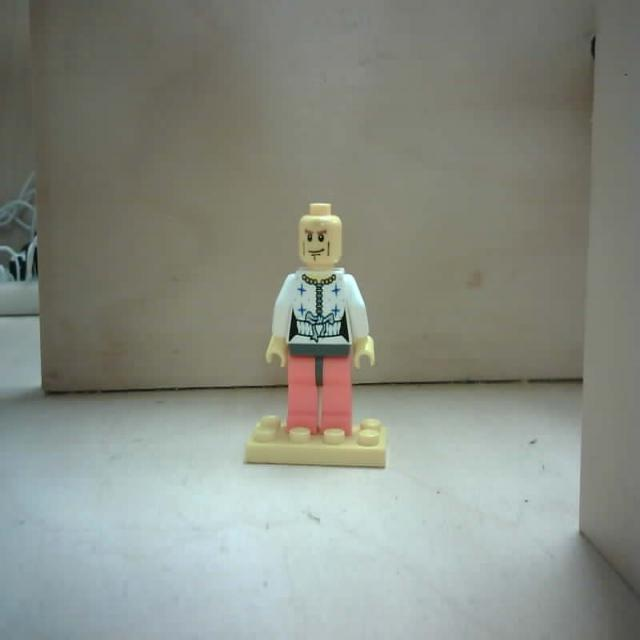Lego-People: (244, 195, 392, 478)
